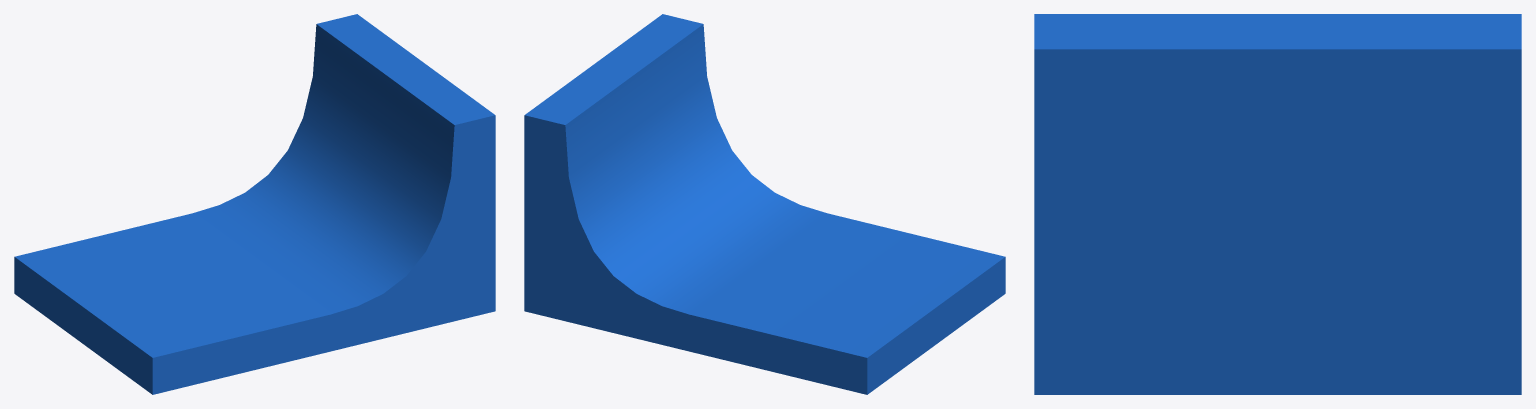
Rendered from StreetPlatform5.fbx.
The picture shows the model from 3 angles, left to right: view 1: azimuth 30°, elevation 25°; view 2: azimuth 150°, elevation 25°; view 3: azimuth 270°, elevation 25°; orthographic projection. The views are drawn at different scales.
Parts seen in each view (by area): view 1: StreetPlatform5; view 2: StreetPlatform5; view 3: StreetPlatform5.
Part boxes in pixels (x1=…): StreetPlatform5: x1=14, y1=14, x2=495, y2=394; StreetPlatform5: x1=524, y1=14, x2=1005, y2=394; StreetPlatform5: x1=1034, y1=14, x2=1521, y2=394.
Bounding box in the file's own units: 2128 × 1163 × 1486.
